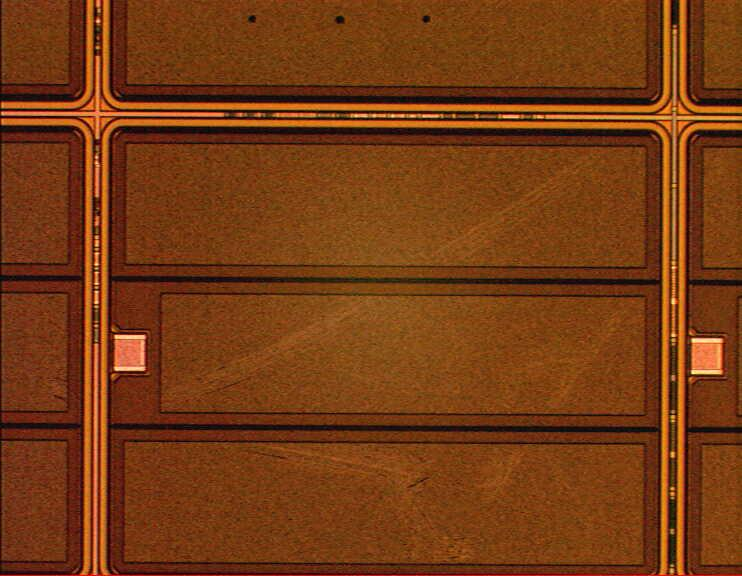SCRATCH: (87, 105, 688, 576)
